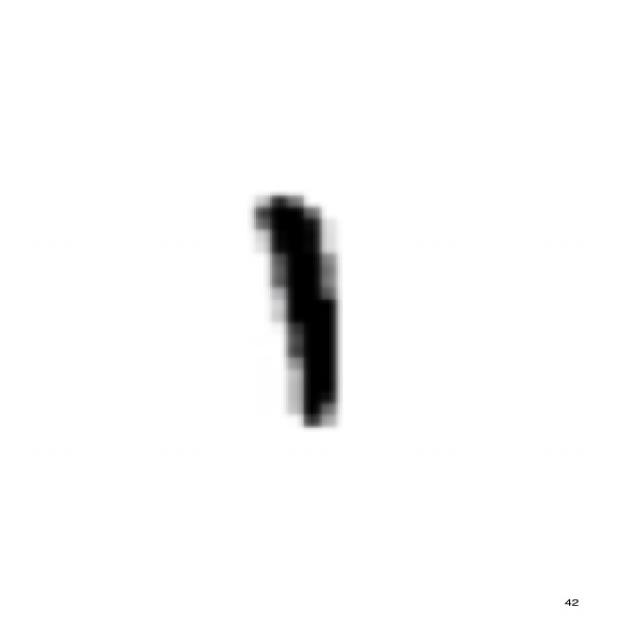1 -one-: (229, 177, 368, 445)
